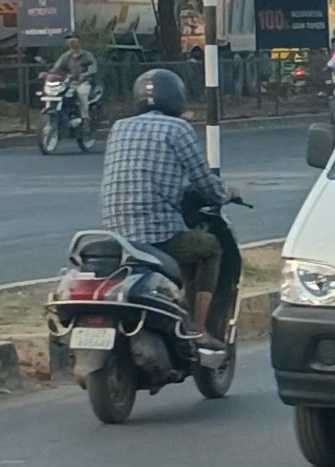BikeWithRider: (40, 61, 259, 424), (30, 28, 103, 161)
Helmet: (130, 62, 190, 121)
NoHelmet: (61, 32, 86, 54)
